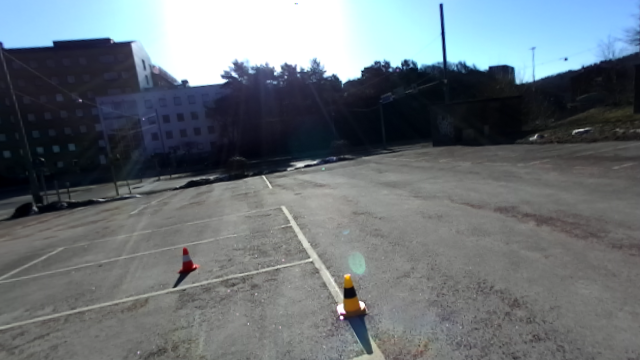orange: (176, 246, 199, 277)
yellow: (333, 270, 366, 320)
